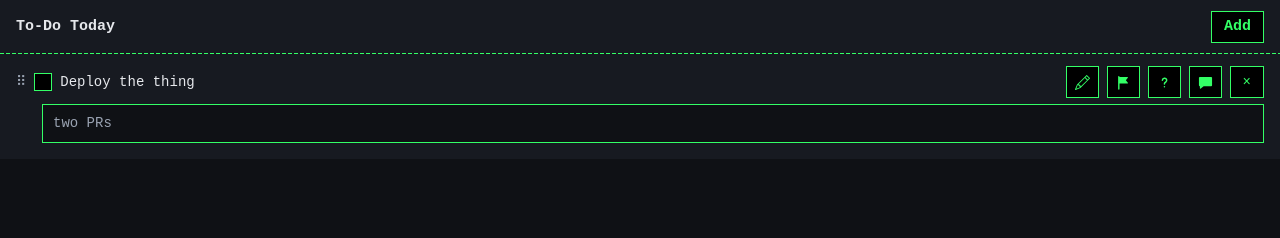
Test: TodosBox › shows an existing note read-only, and edits it on comment-icon click
Expected: the text "two PRs" is shown, [42, 104, 1264, 143]
// Clicking the comment icon switches to edit mode.
Click the button named "Edit note for Deploy the thing" at [1205, 82], box [1189, 66, 1222, 98]
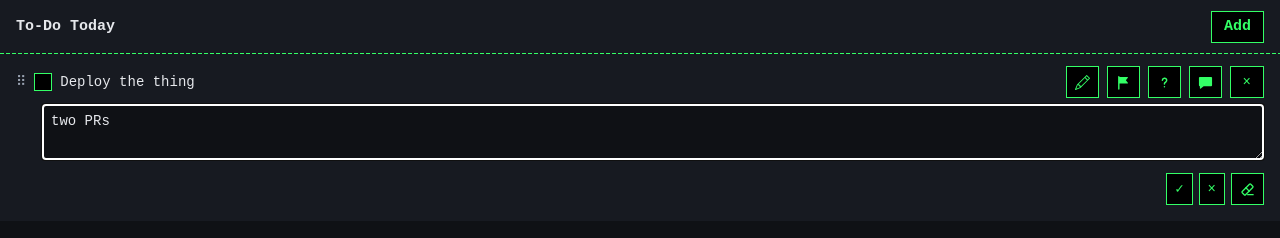
Expected: the text box with placeholder "Add a note…" holds "two PRs", [42, 104, 1264, 160]
